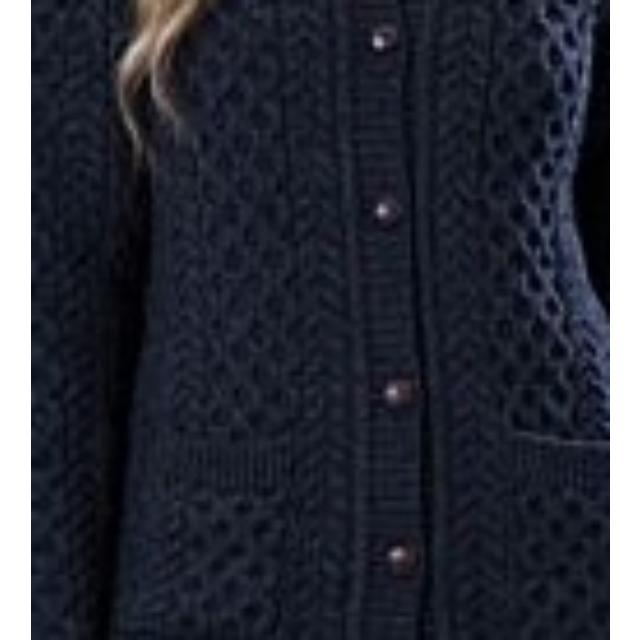wool: (31, 0, 610, 640)
